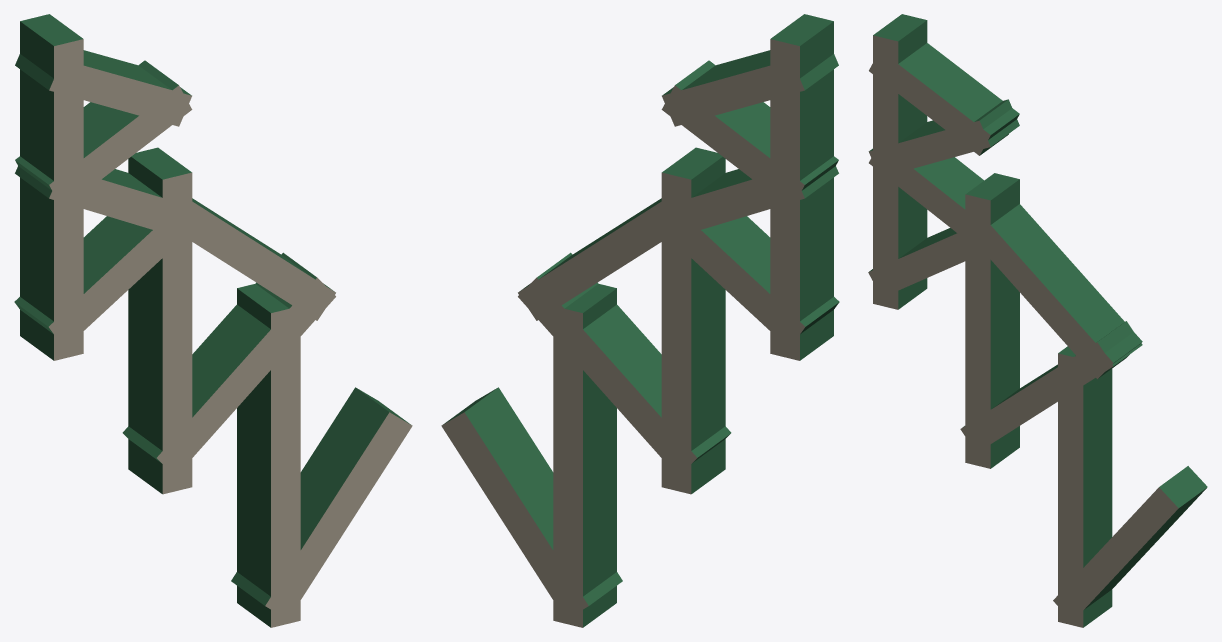
Rendered from dark-bdl-cascade.glb.
3 renders of one model, left to right at view 1: azimuth 30°, elevation 25°; view 2: azimuth 150°, elevation 25°; view 3: azimuth 330°, elevation 25°, orthographic. The views are drawn at different scales.
Visible parts, largest first — view 1: d24-B-trunk, d24-L-trunk, d24-D-trunk, d24-L-foot, d24-D-dn, d24-B-bot-dn, d24-B-top-up, d24-B-top-dn, d24-D-up, d24-B-bot-up; view 2: d24-B-trunk, d24-L-trunk, d24-D-trunk, d24-L-foot, d24-D-dn, d24-B-bot-dn, d24-B-top-dn, d24-B-top-up, d24-D-up, d24-B-bot-up; view 3: d24-L-trunk, d24-D-trunk, d24-B-trunk, d24-D-up, d24-B-top-up, d24-L-foot, d24-D-dn, d24-B-bot-up, d24-B-top-dn, d24-B-bot-dn.
Part boxes in pixels (left/top/right/bottom): d24-B-trunk: left=20, top=14, right=83, bottom=360; d24-L-trunk: left=237, top=283, right=300, bottom=627; d24-D-trunk: left=128, top=147, right=192, bottom=494; d24-L-foot: left=231, top=387, right=412, bottom=619; d24-D-dn: left=122, top=252, right=335, bottom=476; d24-B-bot-dn: left=14, top=199, right=202, bottom=348; d24-B-top-up: left=15, top=50, right=191, bottom=126; d24-B-top-dn: left=15, top=60, right=192, bottom=209; d24-D-up: left=157, top=192, right=335, bottom=320; d24-B-bot-up: left=15, top=166, right=201, bottom=240; d24-B-trunk: left=770, top=14, right=833, bottom=360; d24-L-trunk: left=553, top=283, right=616, bottom=627; d24-D-trunk: left=661, top=147, right=725, bottom=494; d24-L-foot: left=441, top=387, right=622, bottom=619; d24-D-dn: left=518, top=252, right=731, bottom=476; d24-B-bot-dn: left=651, top=199, right=839, bottom=348; d24-B-top-dn: left=661, top=60, right=838, bottom=209; d24-B-top-up: left=662, top=50, right=838, bottom=126; d24-D-up: left=518, top=191, right=696, bottom=320; d24-B-bot-up: left=652, top=166, right=838, bottom=240; d24-L-trunk: left=1058, top=346, right=1112, bottom=627; d24-D-trunk: left=965, top=173, right=1019, bottom=468; d24-B-trunk: left=873, top=14, right=927, bottom=309; d24-D-up: left=962, top=204, right=1142, bottom=378; d24-B-top-up: left=869, top=43, right=1019, bottom=155; d24-L-foot: left=1053, top=466, right=1207, bottom=617; d24-D-dn: left=960, top=321, right=1142, bottom=448; d24-B-bot-up: left=869, top=143, right=998, bottom=256; d24-B-top-dn: left=868, top=99, right=1019, bottom=168; d24-B-bot-dn: left=868, top=221, right=999, bottom=290.
Bounding box in the file's own units: 1.48 × 2.46 × 0.24.
